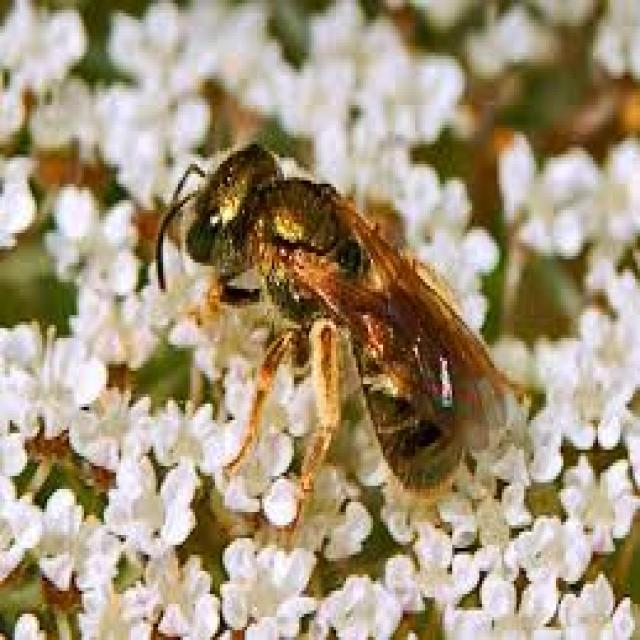Seladonia: (155, 130, 498, 510)
